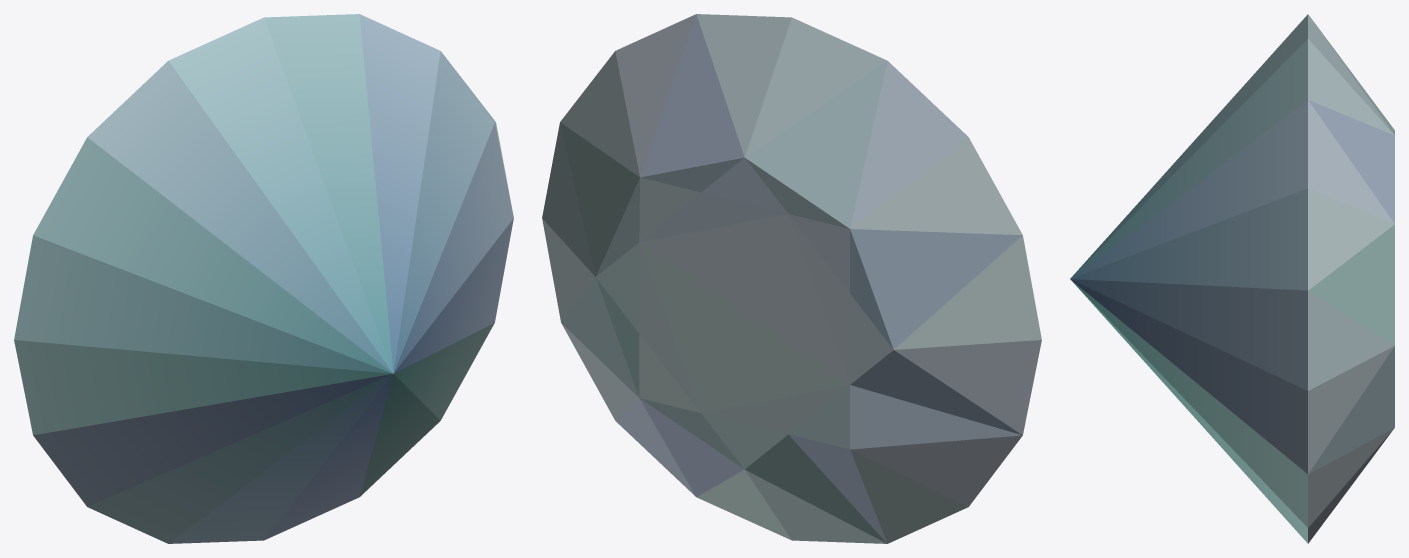
Rendered from Diamond.006.glb.
3 views of the same model, side by side, from view 1: azimuth 30°, elevation 25°; view 2: azimuth 150°, elevation 25°; view 3: azimuth 270°, elevation 25° (orthographic). The views are drawn at different scales.
Visible parts, largest first — view 1: Diamond.006; view 2: Diamond.006; view 3: Diamond.006.
Part boxes in pixels (bbox=[...]): Diamond.006: bbox=[14, 14, 513, 543]; Diamond.006: bbox=[542, 14, 1041, 543]; Diamond.006: bbox=[1070, 14, 1394, 543].
Bounding box in the file's own units: 63.45 × 63.45 × 38.87.
